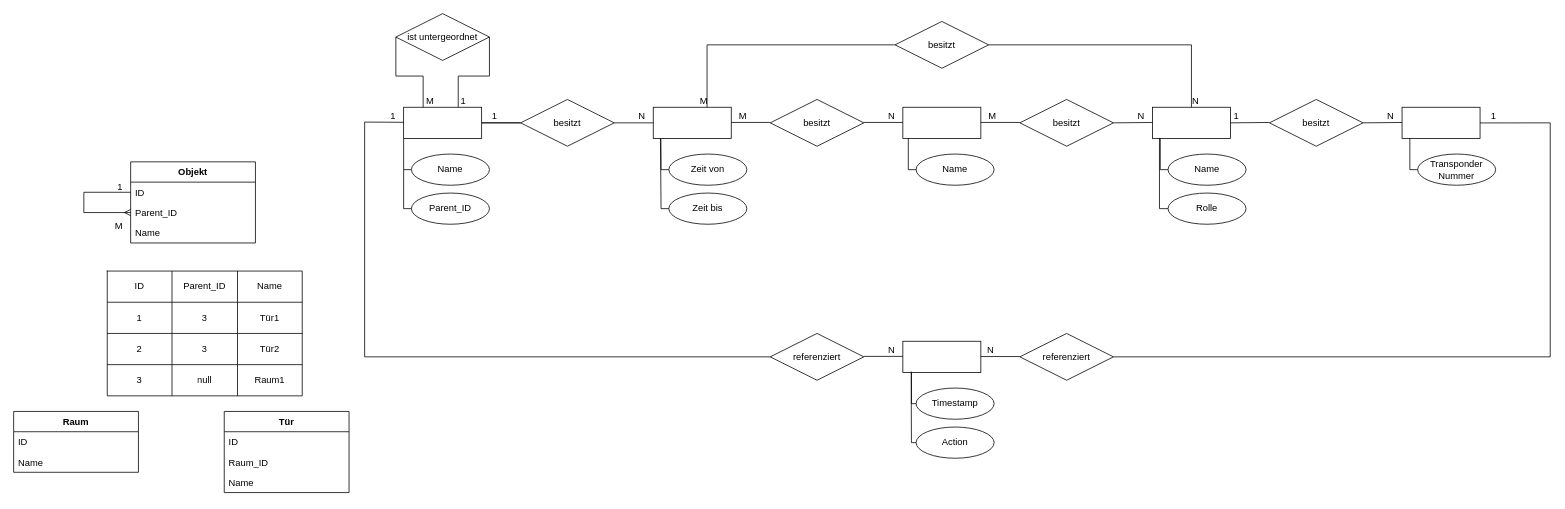
This 1565x509 diagram has some shape labels left out. Each missing label, with the centre of its shape:
"Groups" belongs at pixel 941 122.
"Logs" belongs at pixel 941 356.
"Objekte" belongs at pixel 442 122.
"Recht" belongs at pixel 691 122.
"Transponder" belongs at pixel 1440 122.
"User" belongs at pixel 1191 122.
